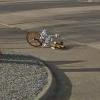Bicycle: (21, 25, 70, 55)
